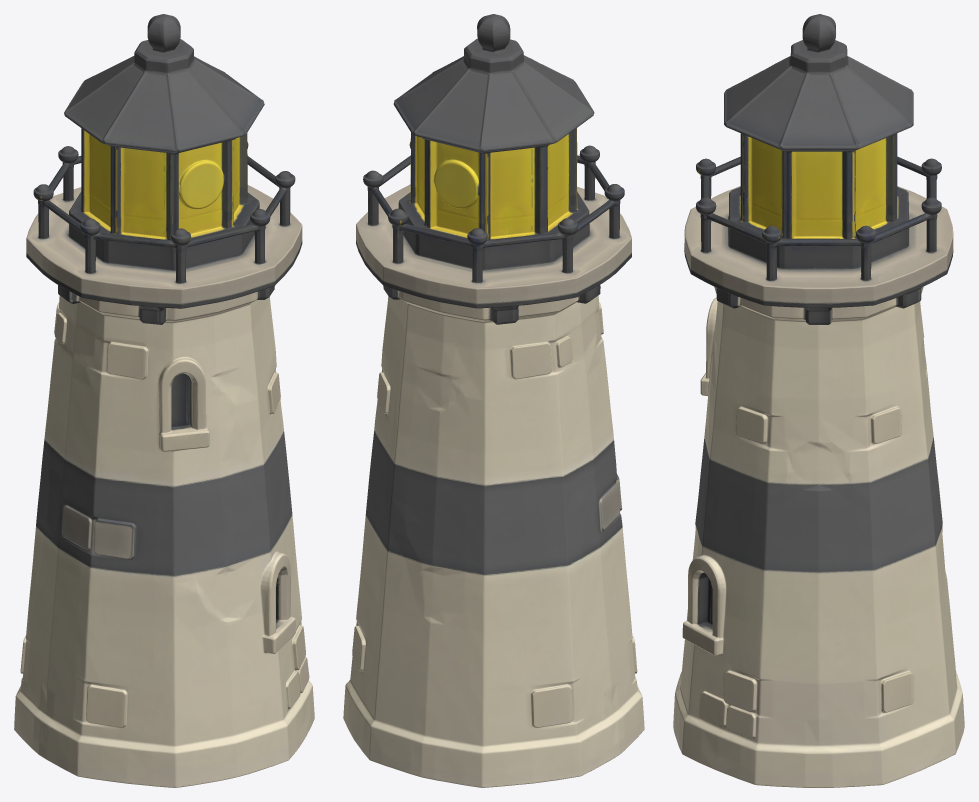
Rendered from fener_kulesi.glb.
The picture shows the model from 3 angles, left to right: view 1: azimuth 30°, elevation 25°; view 2: azimuth 150°, elevation 25°; view 3: azimuth 270°, elevation 25°; orthographic projection.
Parts seen in each view (by area): view 1: tripo_node_adb12a4d-e2e3-49ec-a42b-55d4f0dc57ac; view 2: tripo_node_adb12a4d-e2e3-49ec-a42b-55d4f0dc57ac; view 3: tripo_node_adb12a4d-e2e3-49ec-a42b-55d4f0dc57ac.
Boxes of the visible parts, x1,y1,x2,y2 form: tripo_node_adb12a4d-e2e3-49ec-a42b-55d4f0dc57ac: (14, 14, 314, 787); tripo_node_adb12a4d-e2e3-49ec-a42b-55d4f0dc57ac: (343, 14, 644, 787); tripo_node_adb12a4d-e2e3-49ec-a42b-55d4f0dc57ac: (673, 14, 964, 787).
Size of the model in its own units: 0.3624 by 0.9797 by 0.364.
Materials: 1 (1 with a texture image).
